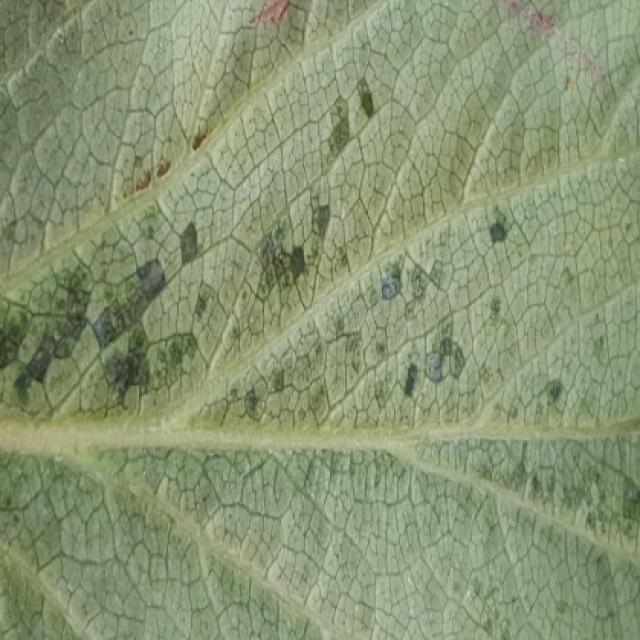Angular Leafspot: (2, 69, 631, 438)
